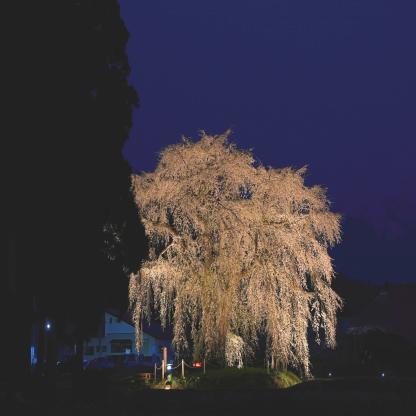ShidareZakura: (129, 126, 345, 382)
